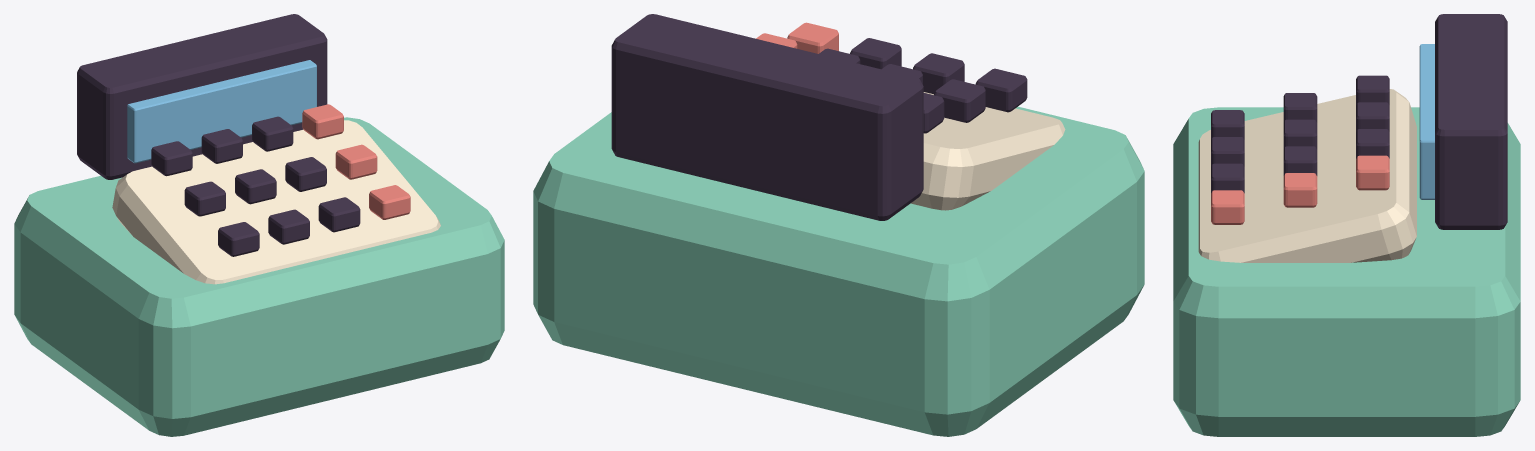
Rendered from cash_register.glb.
The picture shows the model from 3 angles, left to right: view 1: azimuth 30°, elevation 25°; view 2: azimuth 150°, elevation 25°; view 3: azimuth 270°, elevation 25°; orthographic projection. The views are drawn at different scales.
Visible parts, largest first — view 1: model; view 2: model; view 3: model.
Part boxes in pixels (x1,y1,x2,y2): model: (14,14,504,436); model: (533,14,1144,436); model: (1173,14,1520,436).
Bounding box in the file's own units: 0.52 × 0.35 × 0.4.
